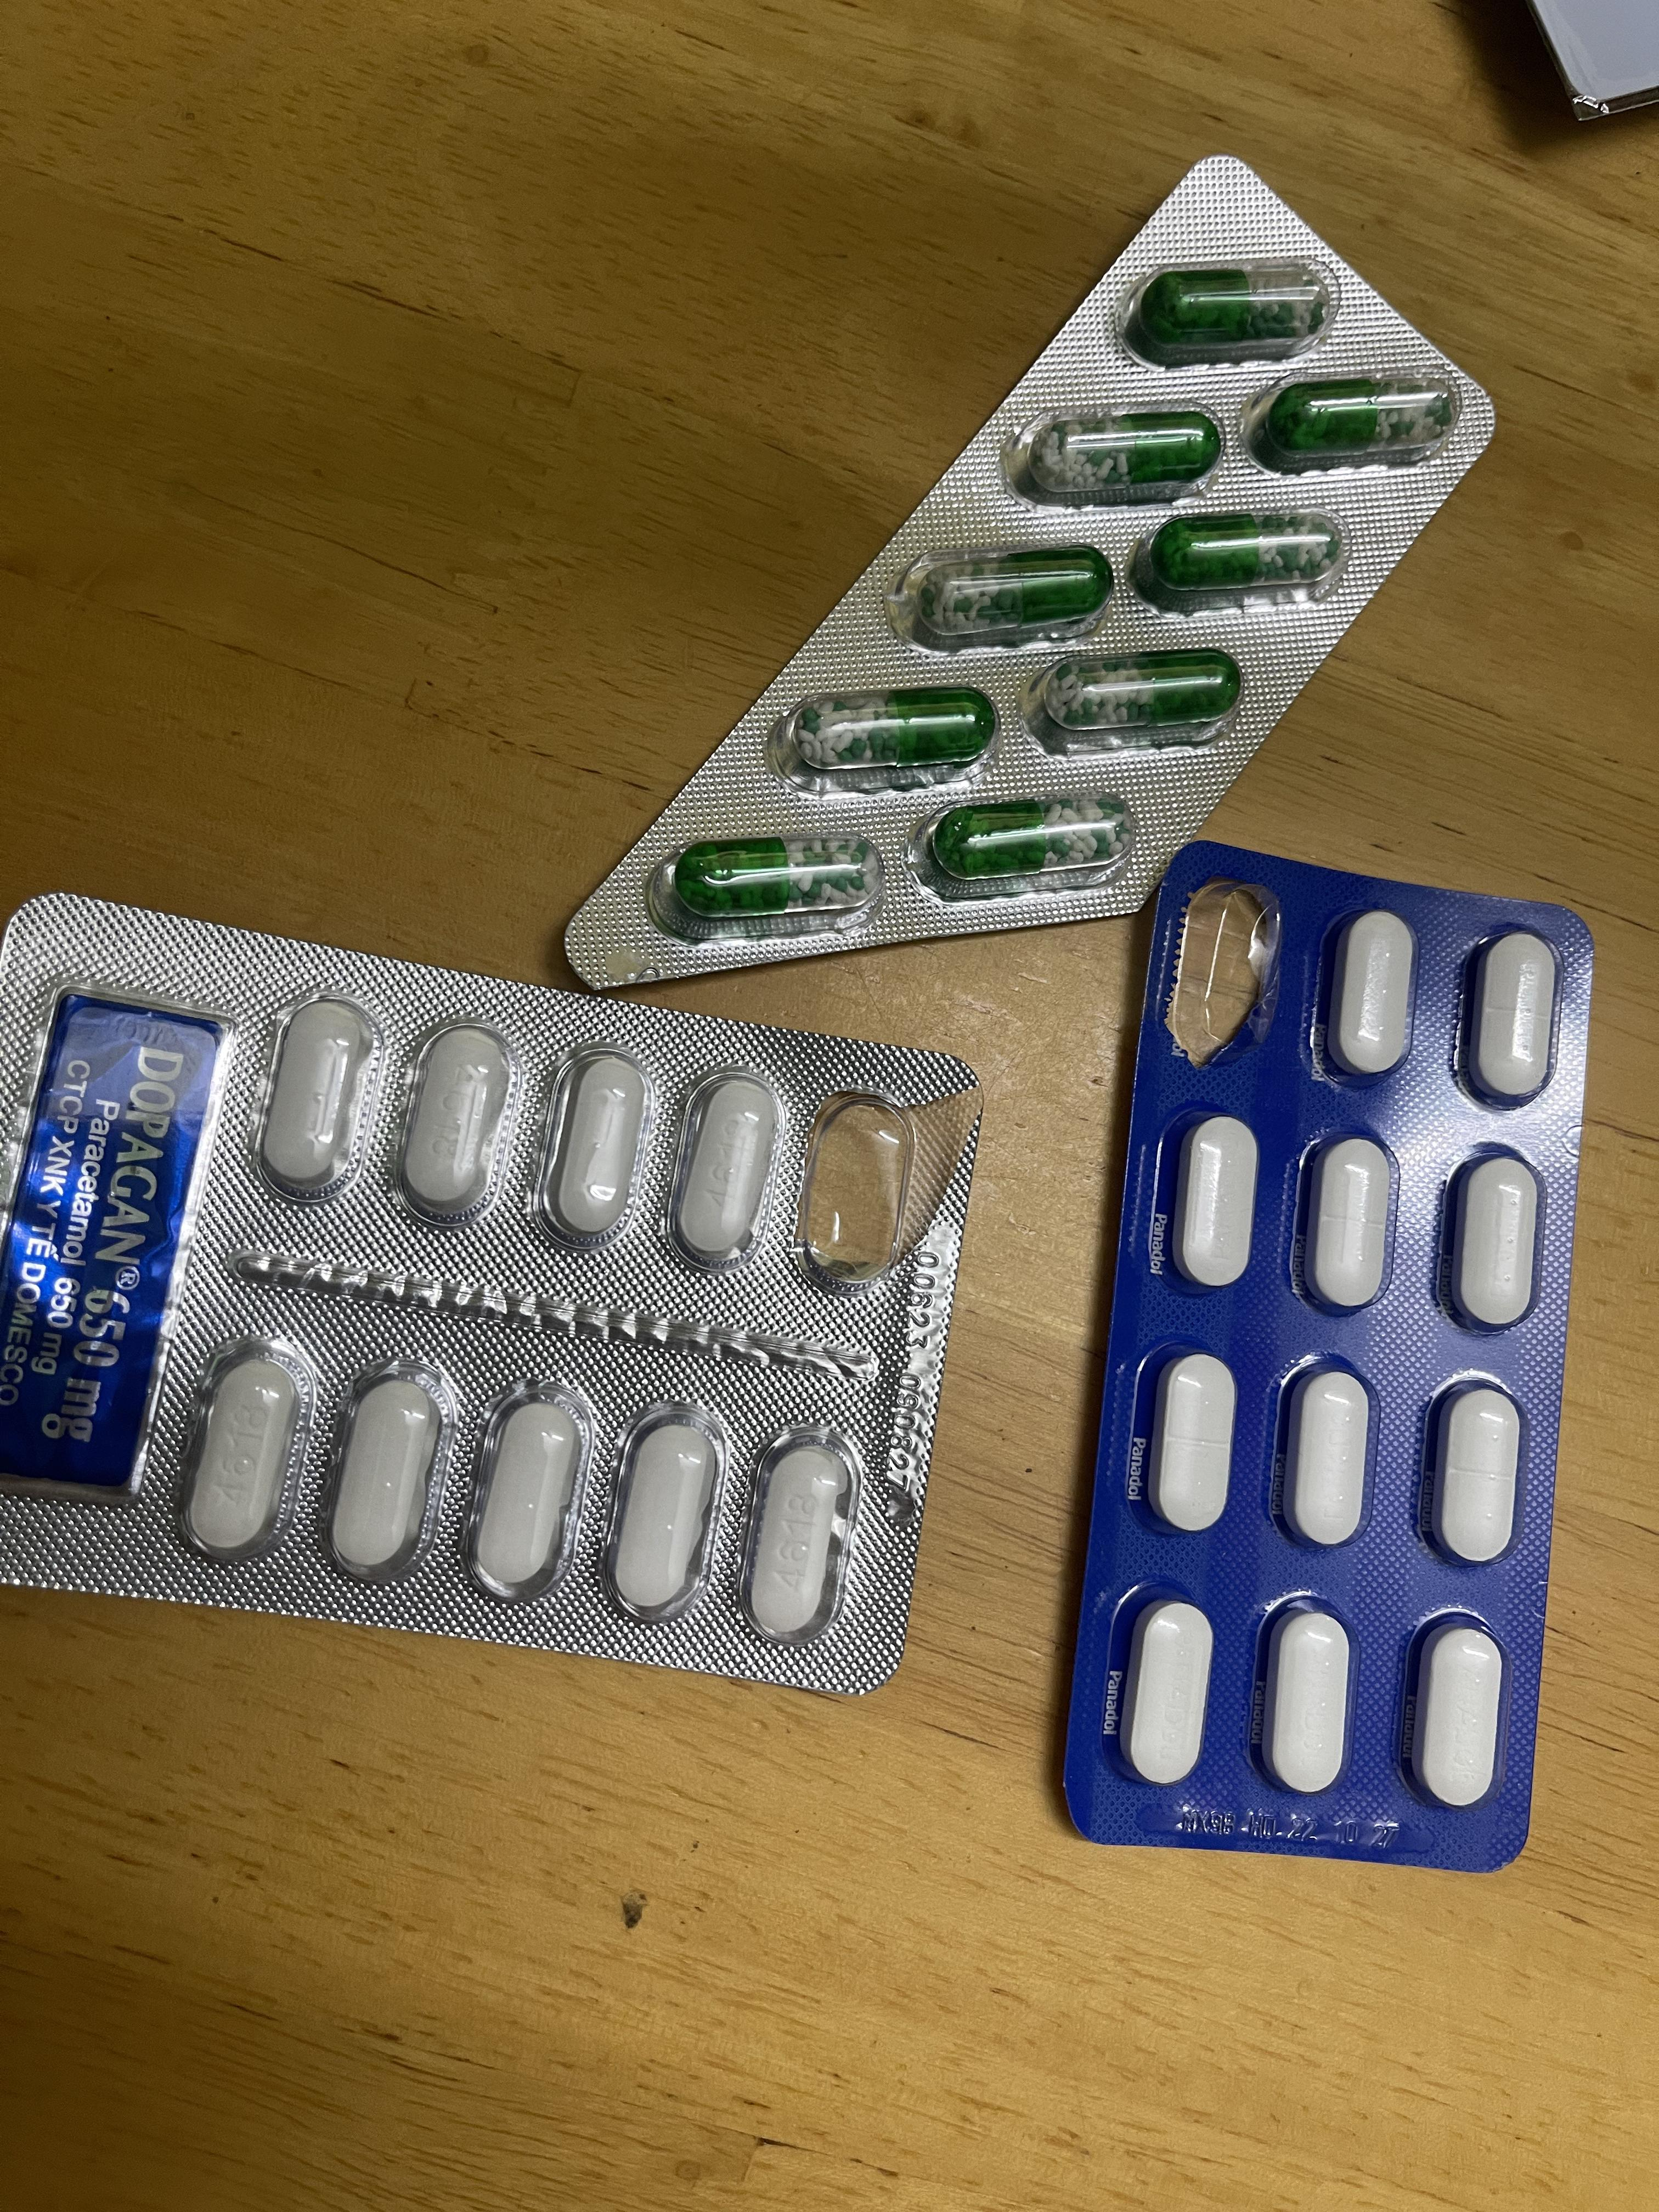Paracetamol_350mg: (1441, 1153, 1546, 1334), (1412, 1622, 1504, 1811), (1263, 1606, 1352, 1797), (1283, 1367, 1373, 1554), (1124, 1599, 1213, 1789), (1467, 932, 1561, 1106), (1434, 1388, 1521, 1569), (1150, 1353, 1237, 1534), (1305, 1137, 1396, 1312), (1326, 911, 1419, 1080), (1173, 1116, 1262, 1291)
Paracetamol_500mg: (174, 1339, 308, 1568), (603, 1404, 730, 1622), (739, 1432, 864, 1648), (253, 993, 382, 1198), (324, 1369, 446, 1581), (390, 1021, 514, 1221), (535, 1045, 655, 1245), (469, 1393, 582, 1604), (664, 1071, 786, 1266)
Paracetamol_650mg: (674, 836, 880, 920), (932, 801, 1124, 885), (793, 691, 992, 772), (1049, 657, 1237, 738), (920, 554, 1107, 634), (1141, 268, 1326, 345), (1265, 381, 1453, 456), (1152, 519, 1335, 592), (1028, 421, 1215, 491)
